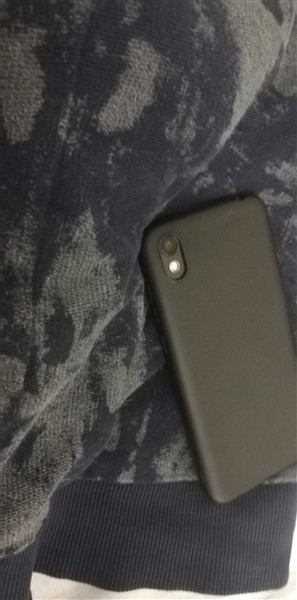telefon: (136, 188, 297, 509)
